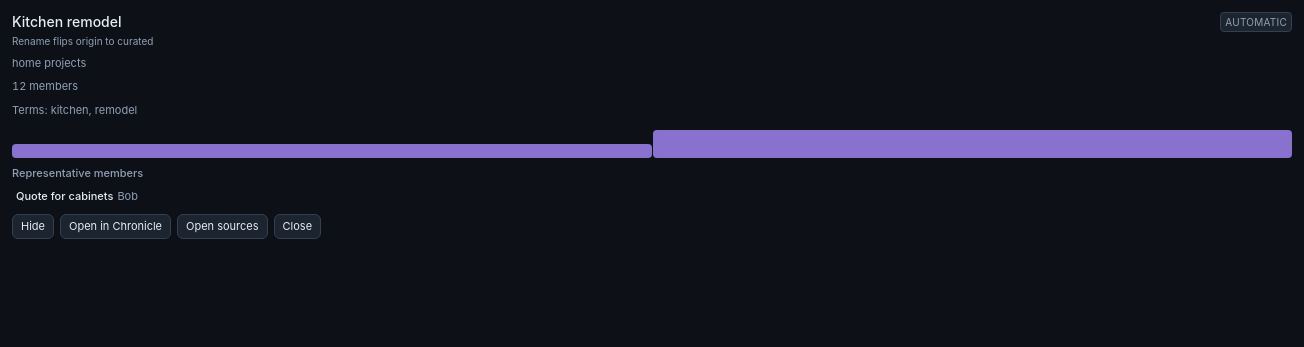
Test: InspectorPanel flow › member list pagination (TA-004 definitive list)
The image size is (1304, 347).
Click the button with test id "topic-open-sources".
click(222, 227)  # box x1=177 y1=214 x2=268 y2=239
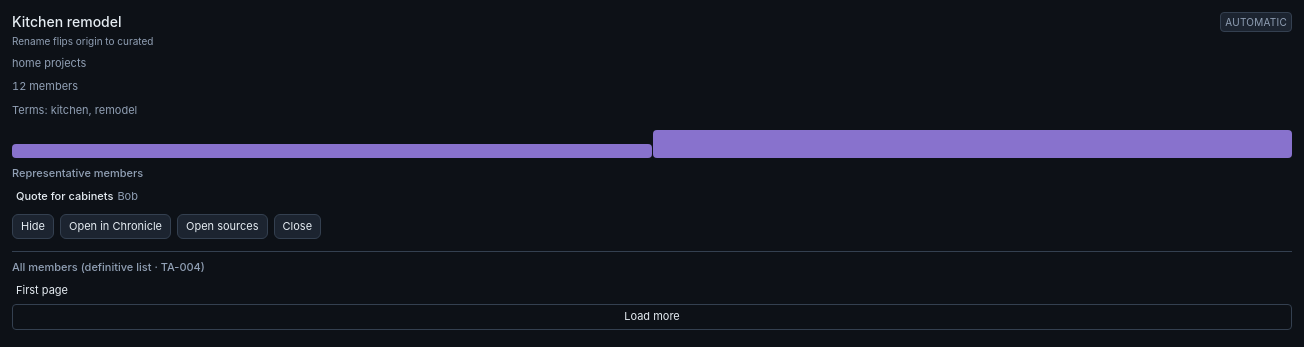
Expected: the element with test id "topic-member-list" is shown, x1=12 y1=251 x2=1292 y2=330
Expected: the button "First page" is shown, x1=12 y1=281 x2=1292 y2=300
Click the button with test id "topic-members-more".
click(652, 317)  # box x1=12 y1=304 x2=1292 y2=330
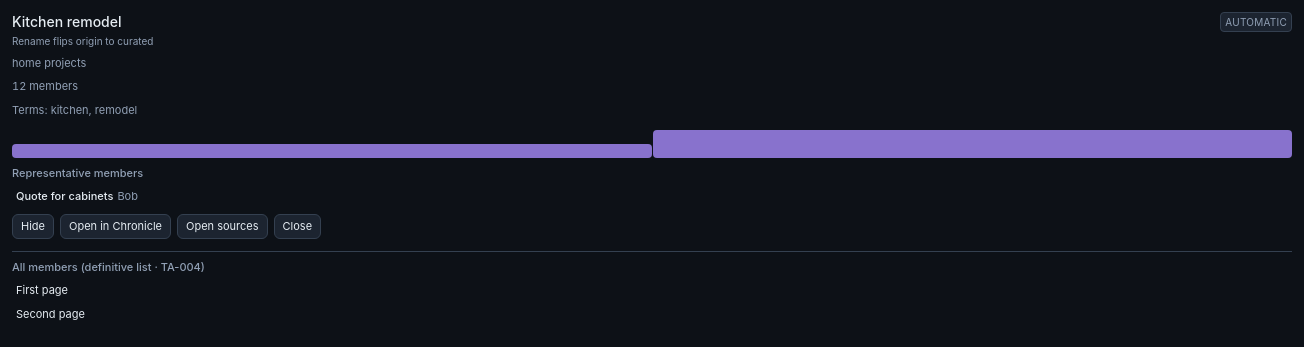
Expected: the button "Second page" is shown, x1=12 y1=305 x2=1292 y2=324
